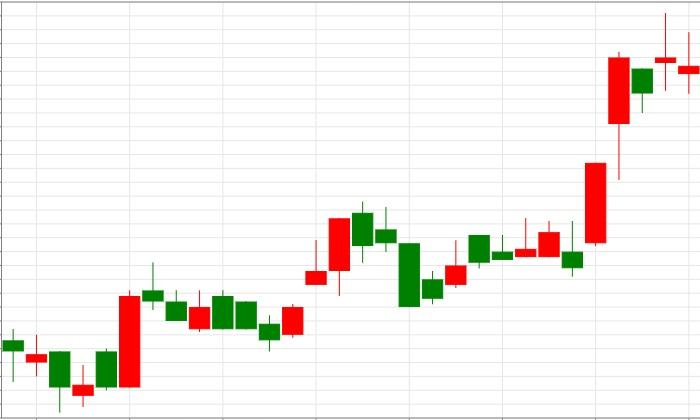three_white_soldiers_rise: (142, 218, 351, 352)
